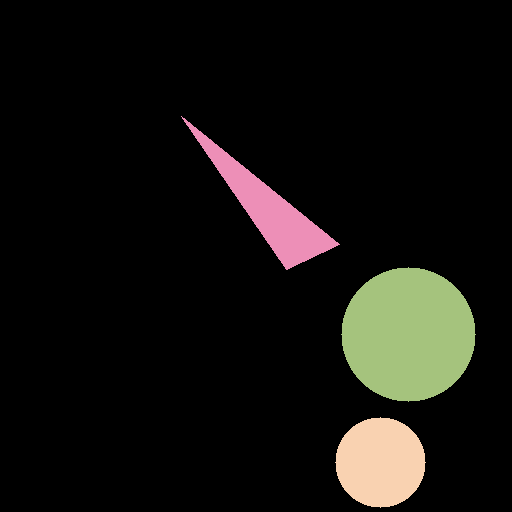circle: (341, 267, 475, 401), (335, 417, 425, 507)
triangle: (181, 116, 339, 269)
